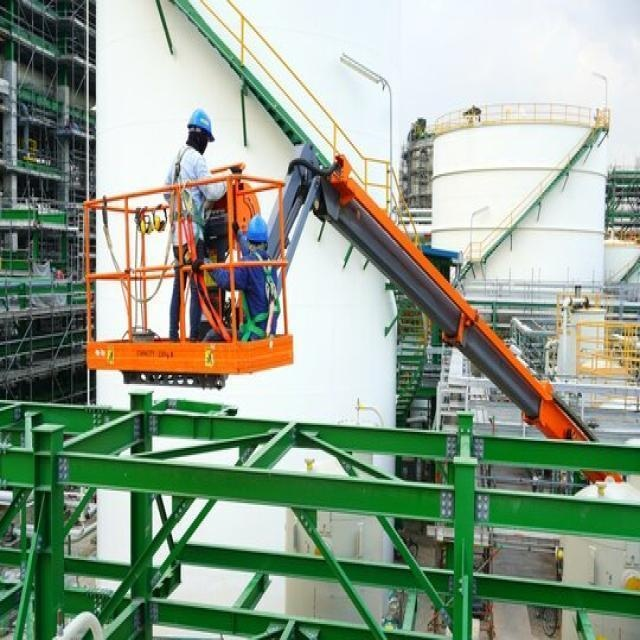Arnes_seguridad: (167, 146, 206, 248)
